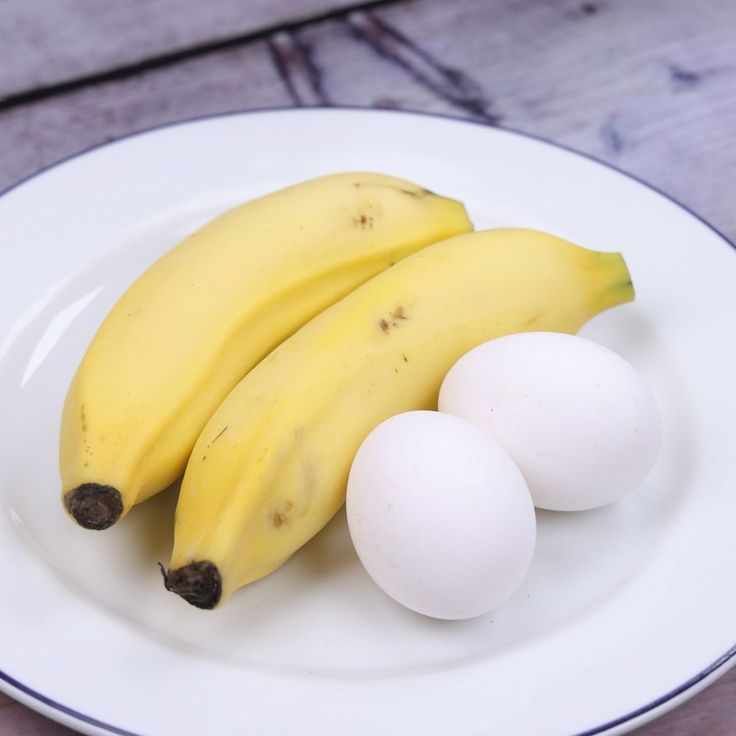banana: (60, 118, 467, 532)
egg: (418, 331, 671, 513), (348, 408, 542, 629)
